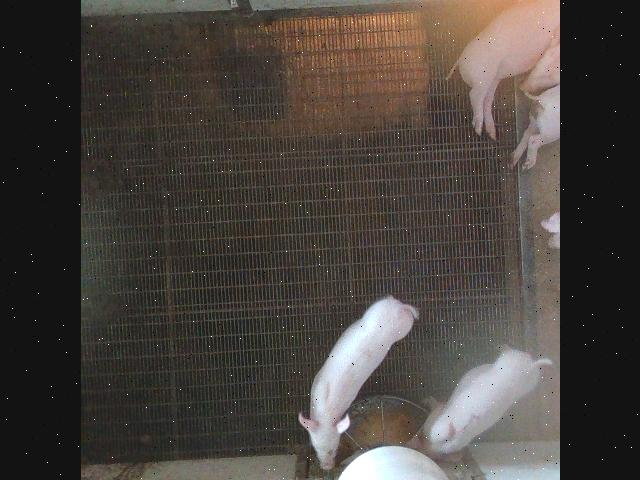pig-5: (411, 349, 551, 455)
